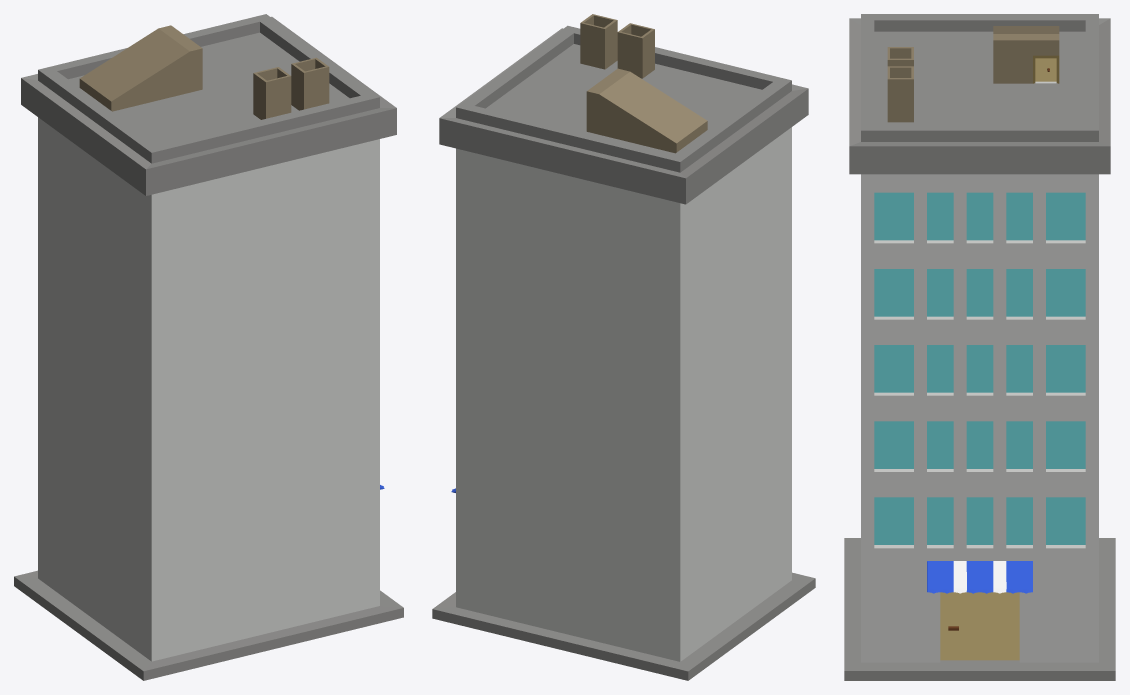
The model's file is Edificio_1.fbx.
3 views of the same model, side by side, from view 1: azimuth 30°, elevation 25°; view 2: azimuth 150°, elevation 25°; view 3: azimuth 270°, elevation 25° (orthographic). The views are drawn at different scales.
Parts seen in each view (by area): view 1: Edificio_1 (Edificio); view 2: Edificio_1 (Edificio); view 3: Edificio_1 (Edificio).
Boxes of the visible parts, <box> form: Edificio_1 (Edificio): <box>14,14,403,680</box>; Edificio_1 (Edificio): <box>432,14,815,680</box>; Edificio_1 (Edificio): <box>844,14,1115,680</box>.
Size of the model in its own units: 719 by 1332 by 570.
